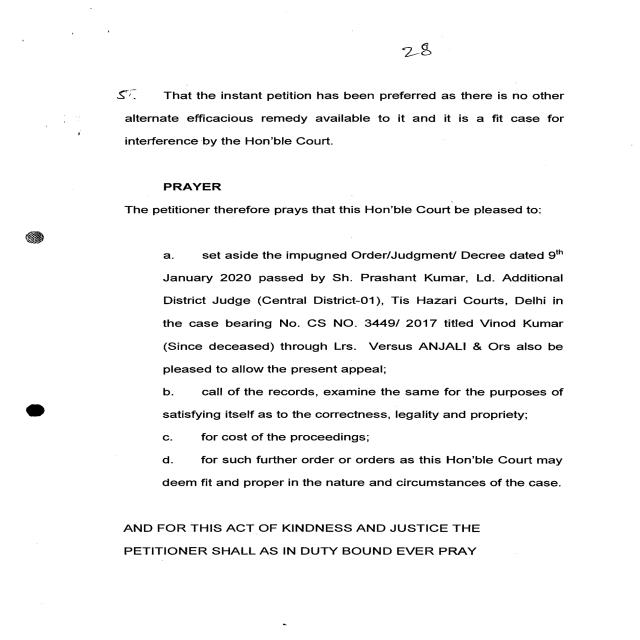page-number: (0, 0, 640, 81)
